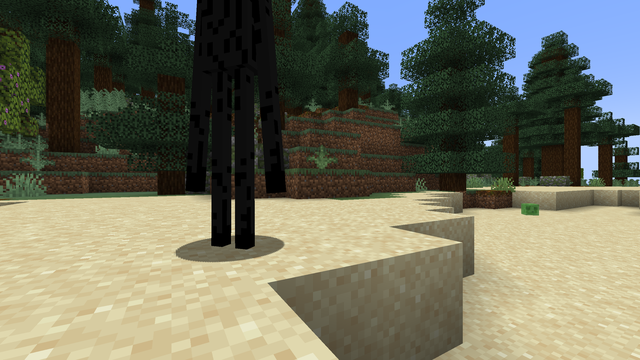endermens: (195, 0, 274, 258)
slimes: (520, 202, 538, 214)
